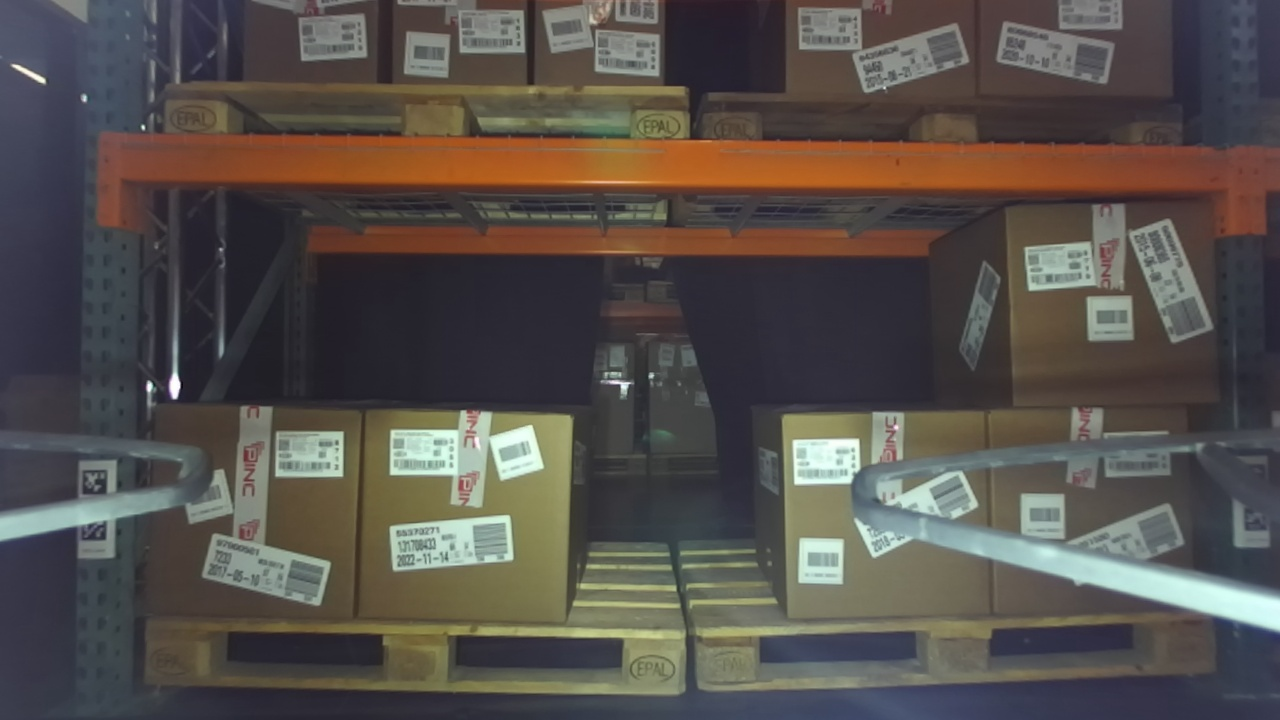box: (345, 377, 586, 648), (976, 390, 1221, 644), (763, 391, 1002, 646), (132, 384, 374, 635), (965, 186, 1240, 398)
